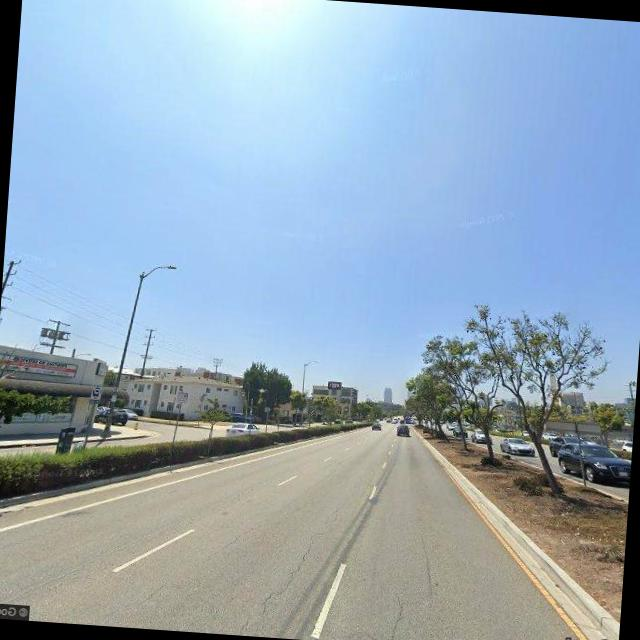pothole: (255, 504, 338, 630), (202, 520, 259, 566), (416, 532, 442, 592), (383, 585, 410, 640)
